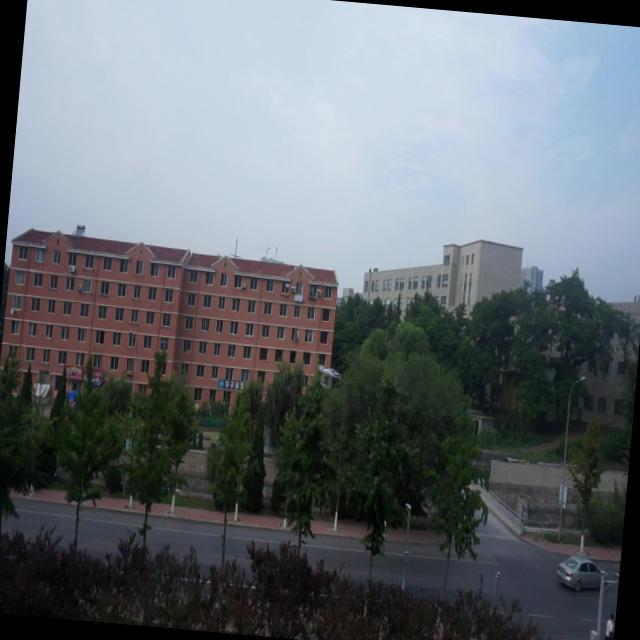drone: (313, 358, 343, 394)
